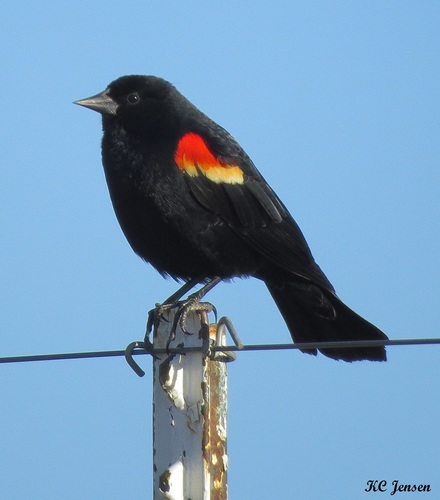bird: (96, 76, 324, 311)
